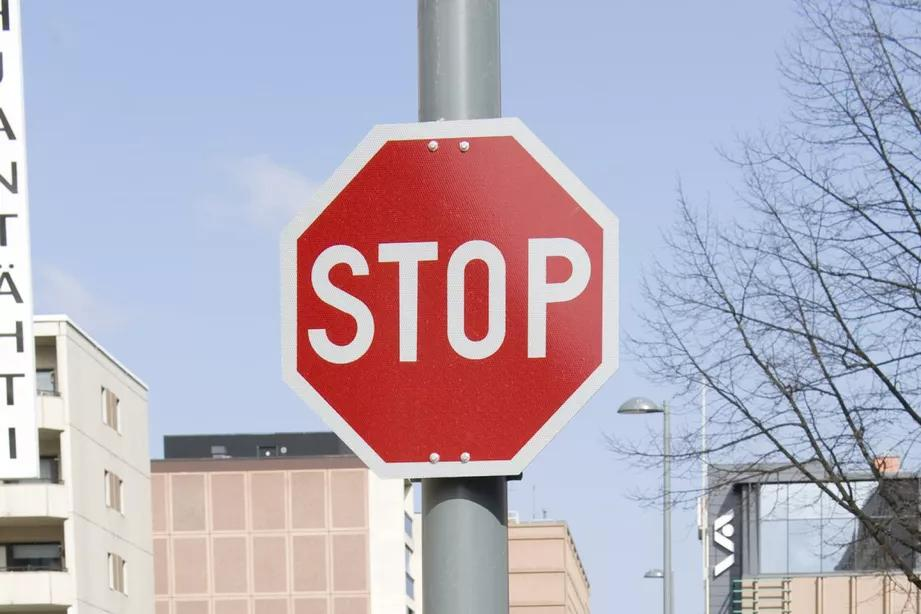traffic sign: (241, 92, 658, 591)
